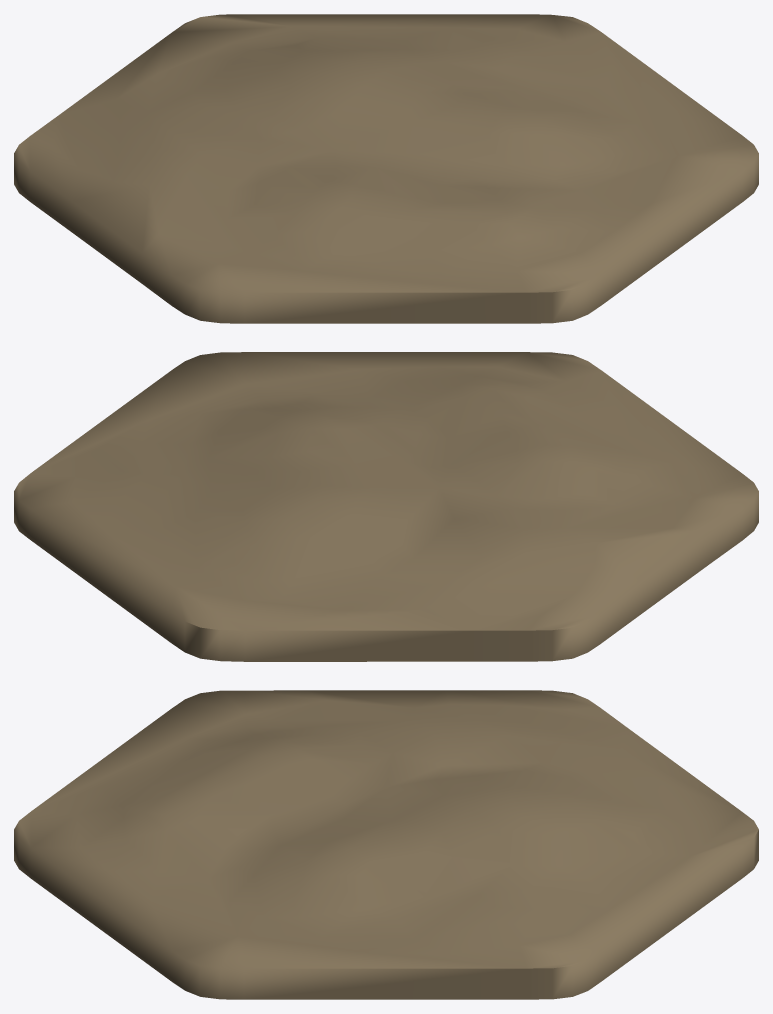
The model's file is sand_tile.fbx.
3 renders of one model, top to bottom at view 1: azimuth 30°, elevation 25°; view 2: azimuth 150°, elevation 25°; view 3: azimuth 270°, elevation 25°, orthographic.
Visible parts, largest first — view 1: tile_theme.001; view 2: tile_theme.001; view 3: tile_theme.001.
Part boxes in pixels (left/top/right/bottom): tile_theme.001: left=14, top=14, right=758, bottom=323; tile_theme.001: left=14, top=352, right=758, bottom=661; tile_theme.001: left=14, top=690, right=758, bottom=999.
Bounding box in the file's own units: 2030 × 217 × 2296.
